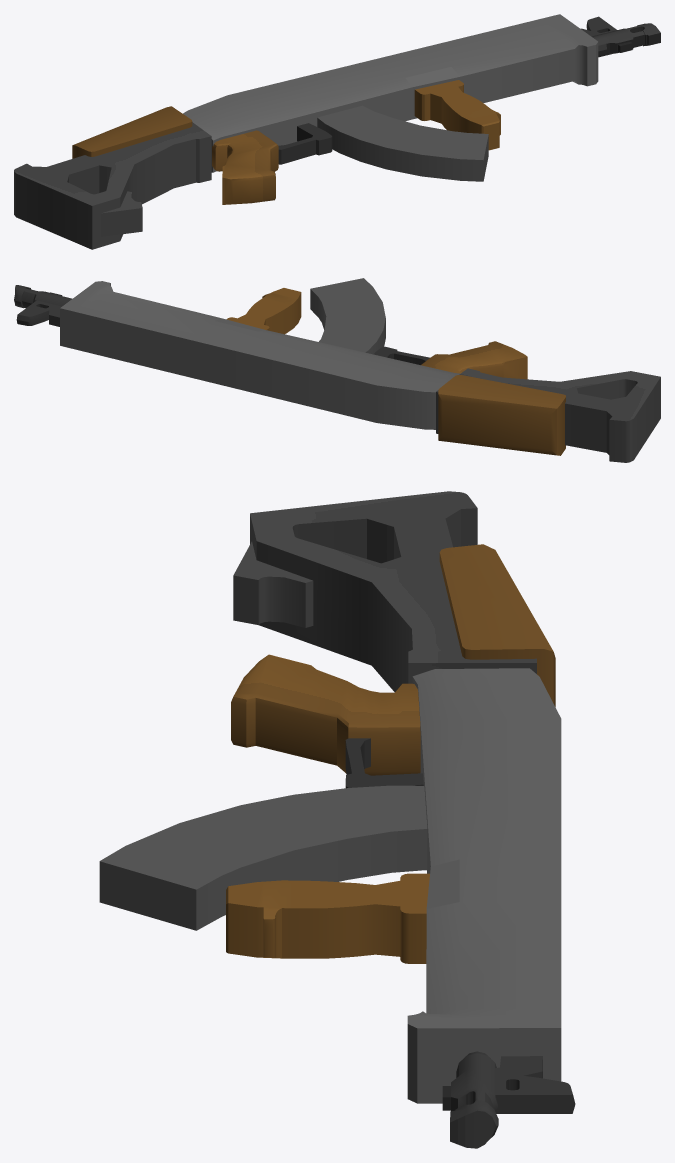
Rendered from rifle_1.glb.
The picture shows the model from 3 angles, top to bottom: view 1: azimuth 30°, elevation 25°; view 2: azimuth 150°, elevation 25°; view 3: azimuth 270°, elevation 25°; orthographic projection. The views are drawn at different scales.
Parts seen in each view (by area): view 1: main_frame, back_frame, magazine, handle, front_handle, back_frame_wrap, main_frame_front, under_frame; view 2: main_frame, back_frame_wrap, back_frame, magazine, handle, front_handle, main_frame_front, under_frame; view 3: main_frame, back_frame, magazine, handle, front_handle, back_frame_wrap, main_frame_front, under_frame.
Part boxes in pixels (x1=…): main_frame: x1=183, y1=14, x2=598, y2=172; back_frame: x1=14, y1=122, x2=211, y2=249; magazine: x1=317, y1=105, x2=488, y2=181; handle: x1=212, y1=130, x2=278, y2=204; front_handle: x1=414, y1=80, x2=500, y2=150; back_frame_wrap: x1=72, y1=106, x2=192, y2=158; main_frame_front: x1=581, y1=16, x2=660, y2=57; under_frame: x1=278, y1=123, x2=332, y2=164; main_frame: x1=60, y1=281, x2=460, y2=429; back_frame_wrap: x1=438, y1=375, x2=565, y2=455; back_frame: x1=436, y1=368, x2=660, y2=462; magazine: x1=310, y1=278, x2=385, y2=354; handle: x1=421, y1=341, x2=527, y2=379; front_handle: x1=226, y1=288, x2=301, y2=334; main_frame_front: x1=14, y1=285, x2=72, y2=326; under_frame: x1=373, y1=346, x2=429, y2=364; main_frame: x1=407, y1=668, x2=561, y2=1103; back_frame: x1=233, y1=491, x2=536, y2=692; magazine: x1=99, y1=785, x2=427, y2=930; handle: x1=231, y1=654, x2=420, y2=775; front_handle: x1=226, y1=873, x2=429, y2=963; back_frame_wrap: x1=439, y1=544, x2=555, y2=706; main_frame_front: x1=442, y1=1051, x2=575, y2=1148; under_frame: x1=345, y1=738, x2=423, y2=788.
Size of the model in its own units: 3.93 by 0.3149 by 1.32.
Materials: 2 (2 with a texture image).
